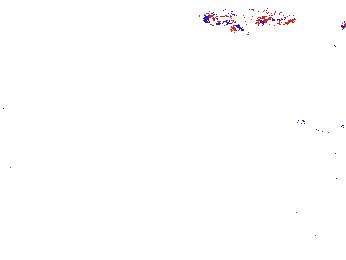X-ray fish: (177, 139, 224, 177), (138, 57, 184, 86)
glassfish: (269, 174, 346, 219)
red belly glassfish: (258, 15, 293, 27)
redtail glassfish: (194, 5, 282, 25)
